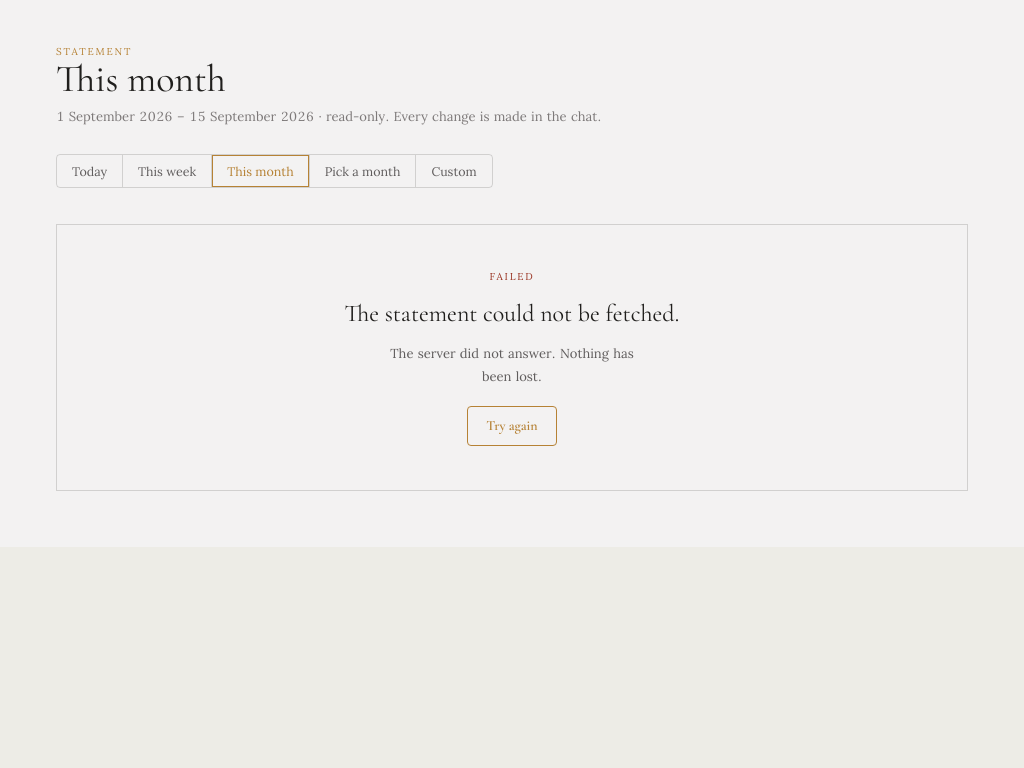
Test: DashboardPage › shows an error with a retry button when the request fails
Expected: the text "The statement could not be fetched." is shown, [344,298,679,330]
What coordinates should you click on to do the following:
click the button "Try again"
I would click on:
 (512, 426)
Its box is [467,406,557,446].
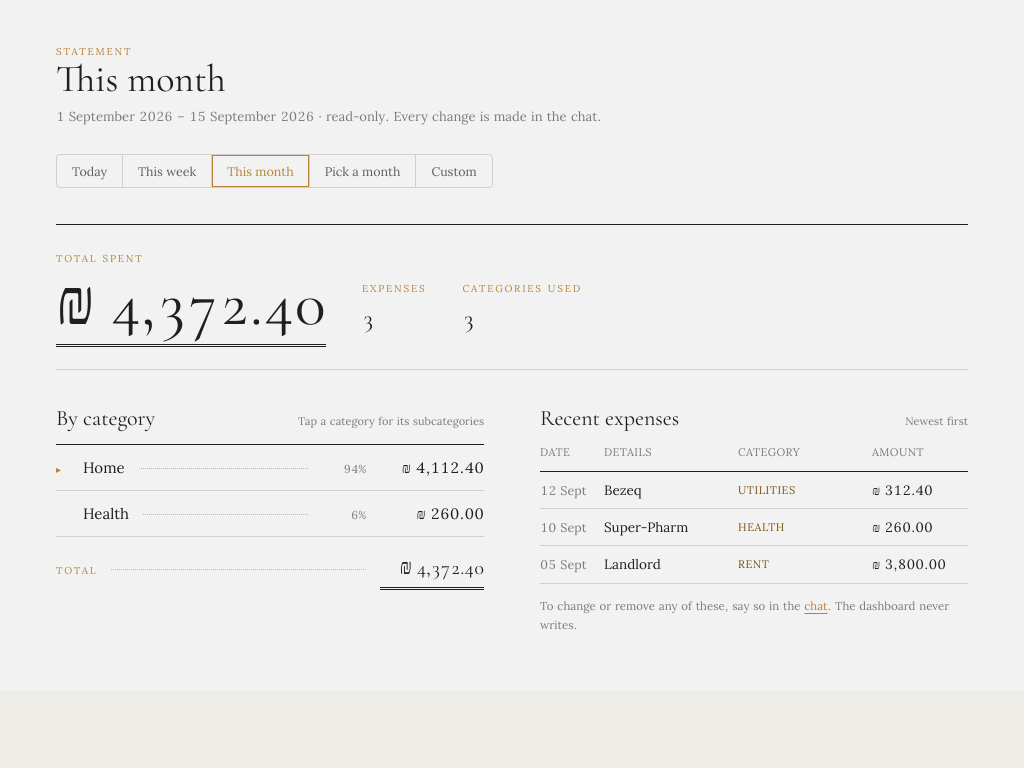
Expected: the text "Home" is shown, [83,458,125,478]
